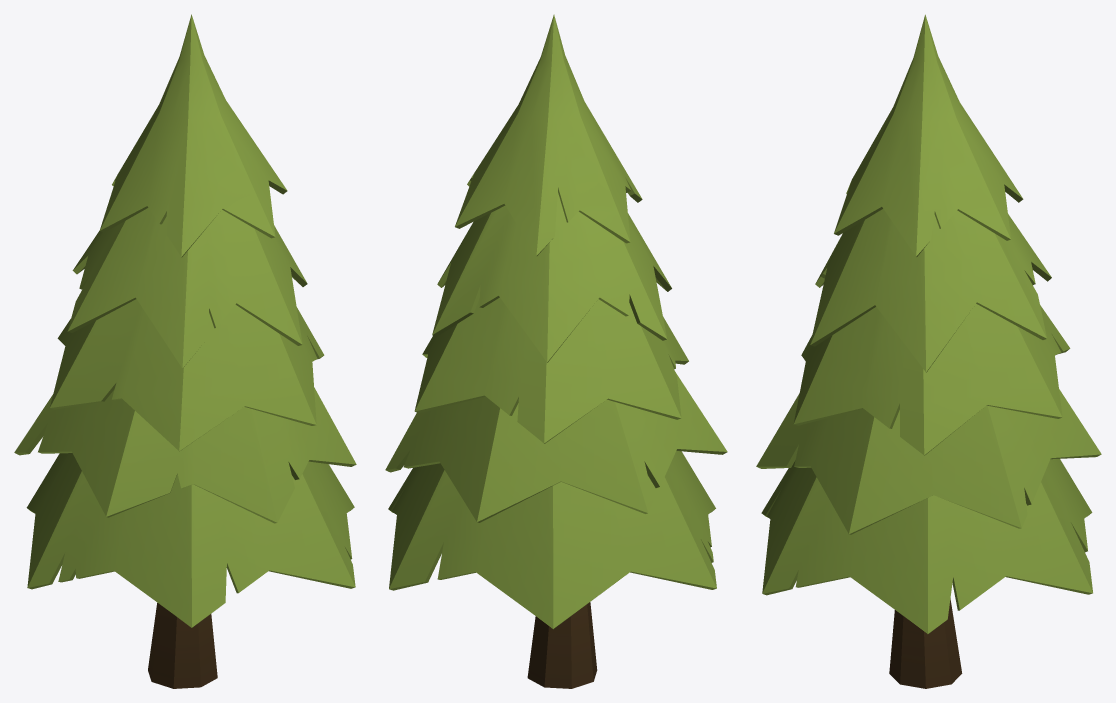
Rendered from Spring_Tree_02.glb.
The picture shows the model from 3 angles, left to right: view 1: azimuth 30°, elevation 25°; view 2: azimuth 150°, elevation 25°; view 3: azimuth 270°, elevation 25°; orthographic projection.
Parts seen in each view (by area): view 1: Spring_Tree_02_LOD0; view 2: Spring_Tree_02_LOD0; view 3: Spring_Tree_02_LOD0.
Part boxes in pixels (left/top/right/bottom): Spring_Tree_02_LOD0: left=14, top=14, right=356, bottom=688; Spring_Tree_02_LOD0: left=385, top=14, right=727, bottom=688; Spring_Tree_02_LOD0: left=756, top=14, right=1101, bottom=688.
Size of what is drawn, in the model's own units: 1.92 by 3.67 by 1.73.
1 material, 1 textured.
